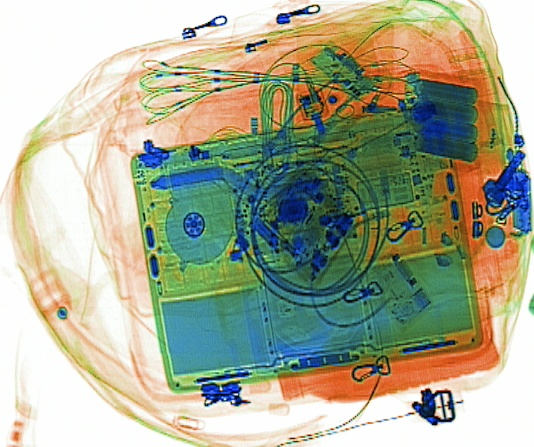powerbank: (395, 67, 482, 170)
